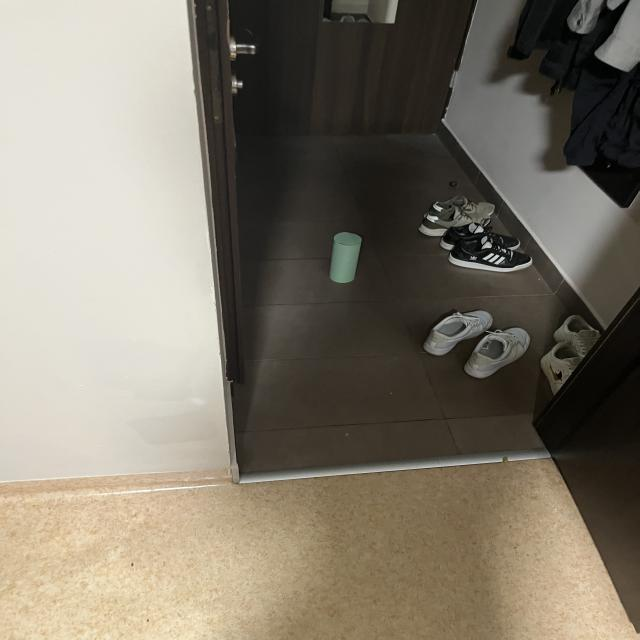meta: (330, 232, 362, 283)
